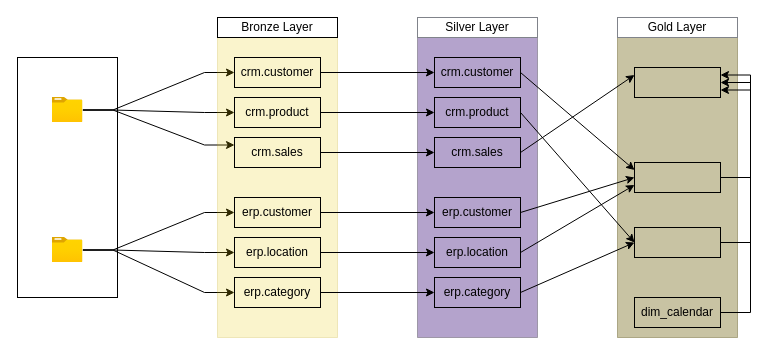
This 776x355 diagram has some shape labels left out. Each missing label, with the centre of its shape:
"CRM" belongs at point (67, 109).
"dim_customer" belongs at point (677, 177).
"dim_product" belongs at point (677, 242).
"ERP" belongs at point (67, 249).
"fact_sales" belongs at point (677, 82).
